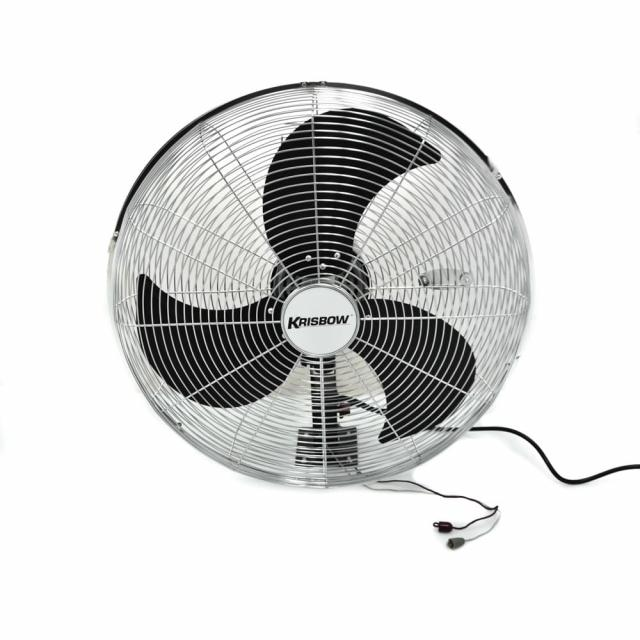fan: (90, 57, 640, 601)
